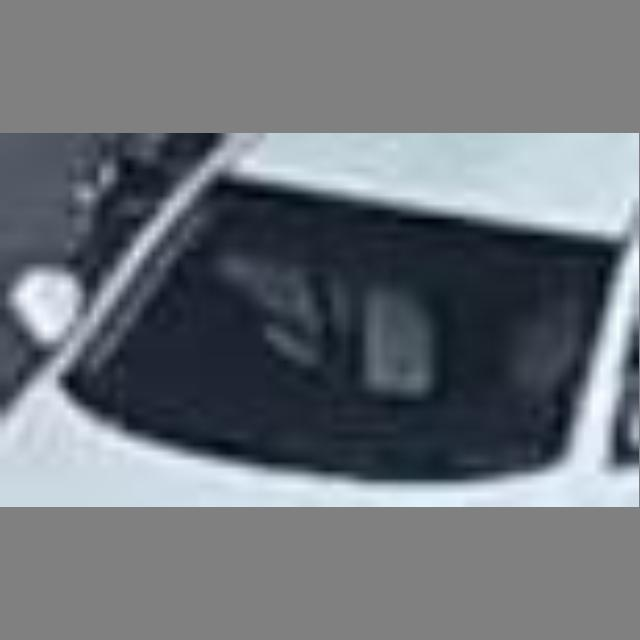tidak-pakai: (208, 208, 432, 391)
